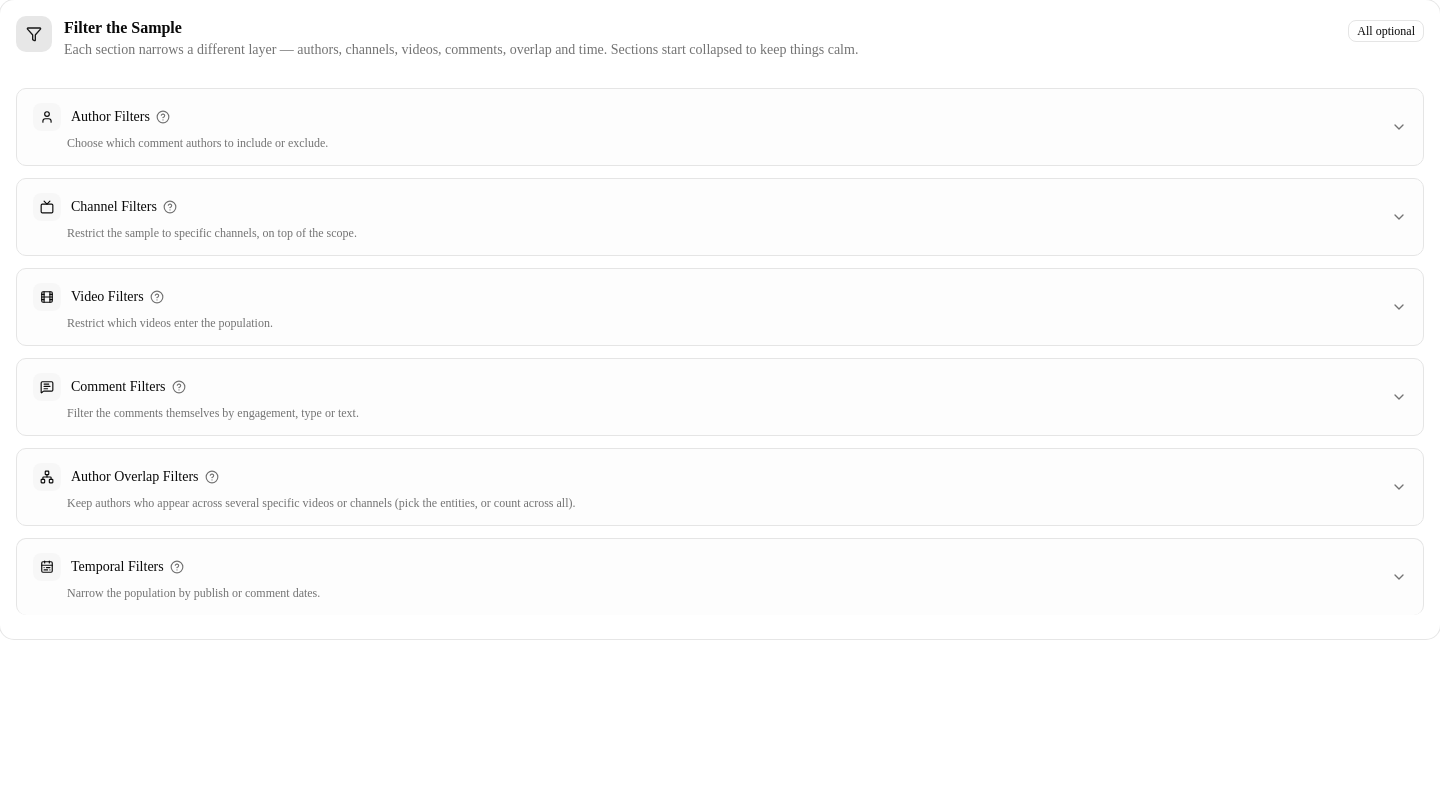
Test: sampling: FilterPanel new filter controls › renders the new author-name include/exclude inputs
Step 1. Click the button "Author Filters" → (110, 116), box 33,89 -> 1407,165
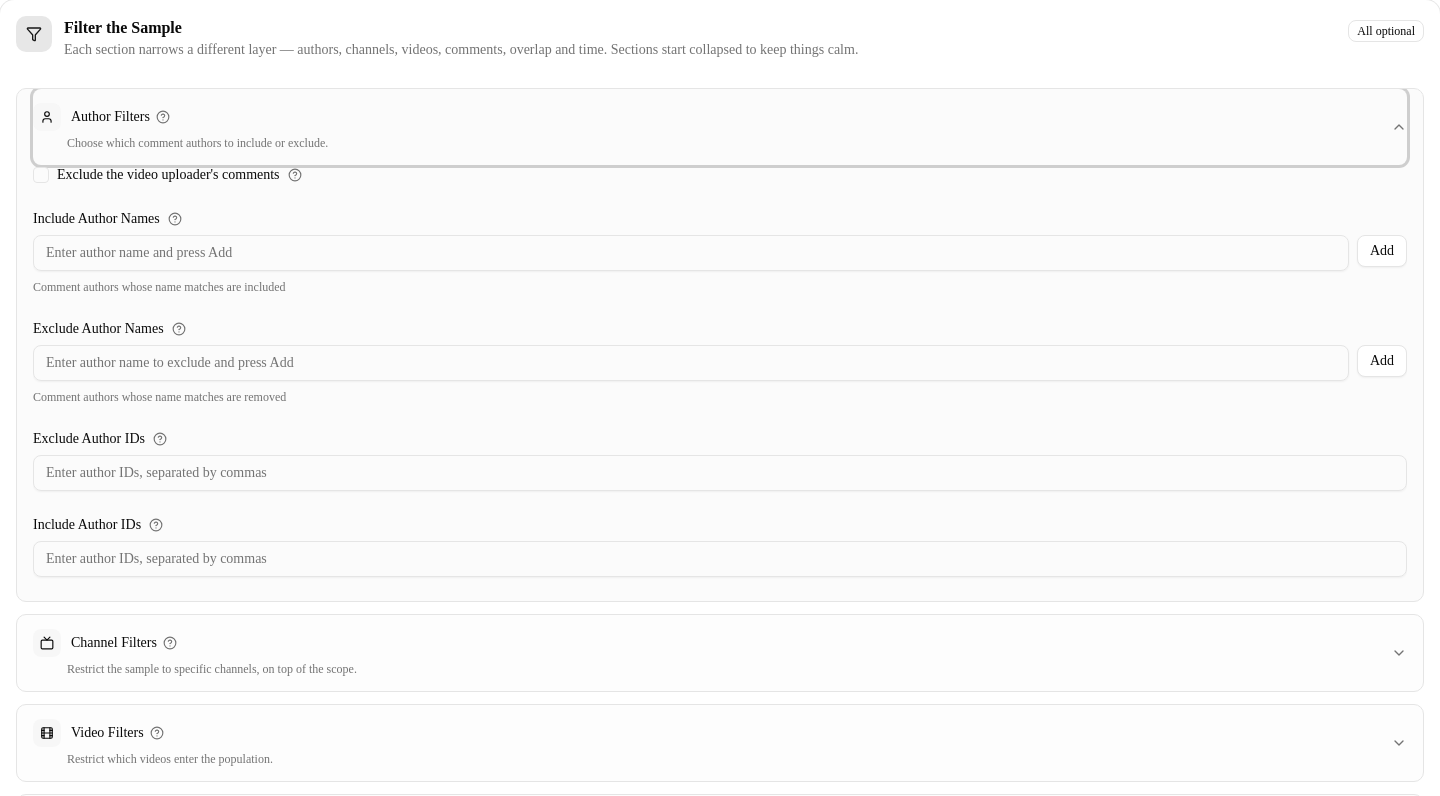
Now the field with placeholder "Enter author name and press Add" is shown, box 33,235 -> 1349,271
Now the field with placeholder "Enter author name to exclude and press Add" is shown, box 33,345 -> 1349,381
